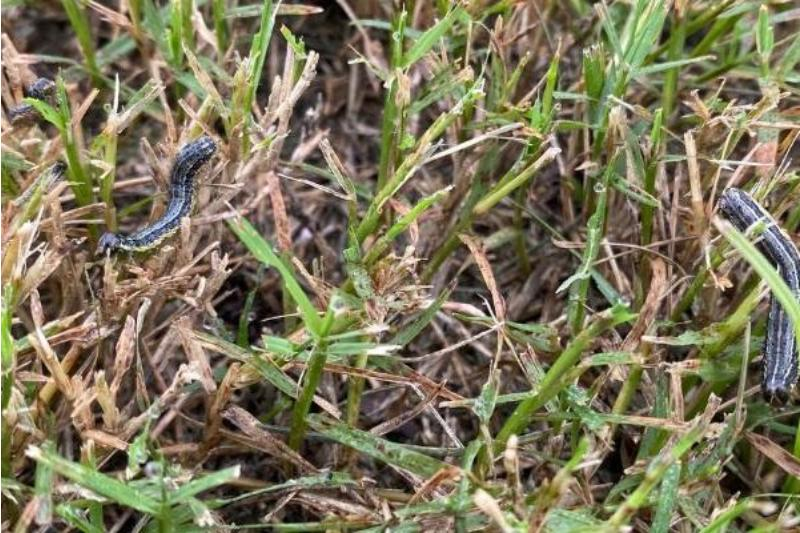fall-armyworm: (718, 189, 800, 399), (98, 137, 225, 257)
